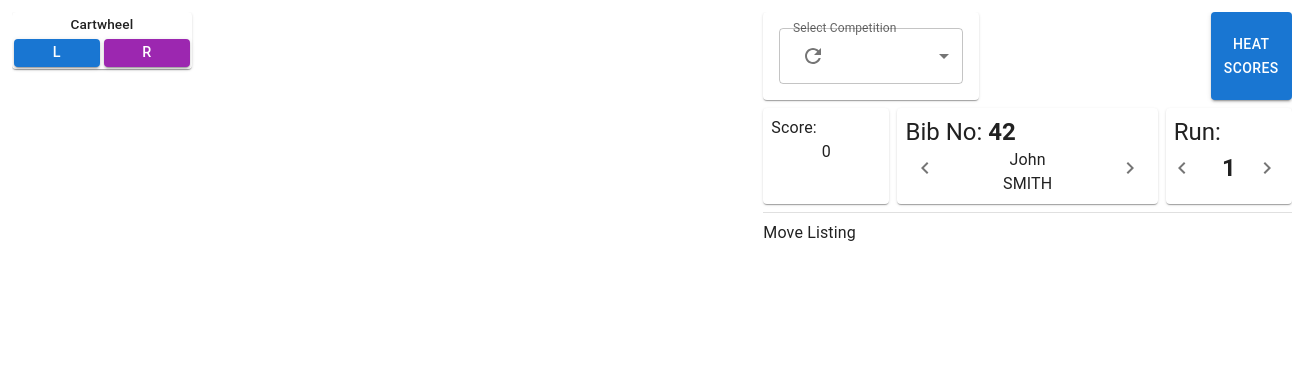
Test: Scribe › keeps showing local state and stays usable after a 409
The width and height of the screenshot is (1304, 382).
Click the button with test id "button-test-move-1-l" at [57, 53], box [14,39,100,67]
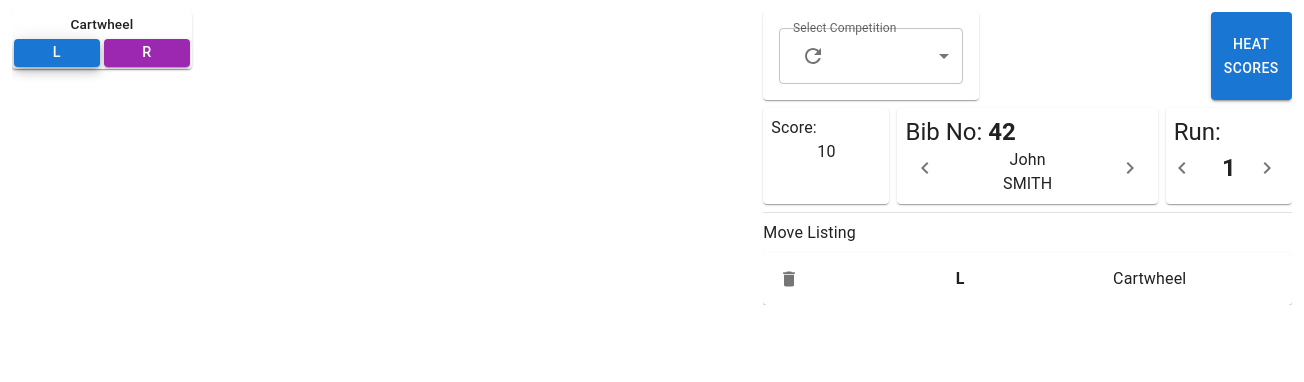
Now the text "Cartwheel" below "Move Listing" is shown, box [1113,269,1186,288]
Click the button with test id "button-test-move-1-r" at [147, 53], box [104,39,190,67]
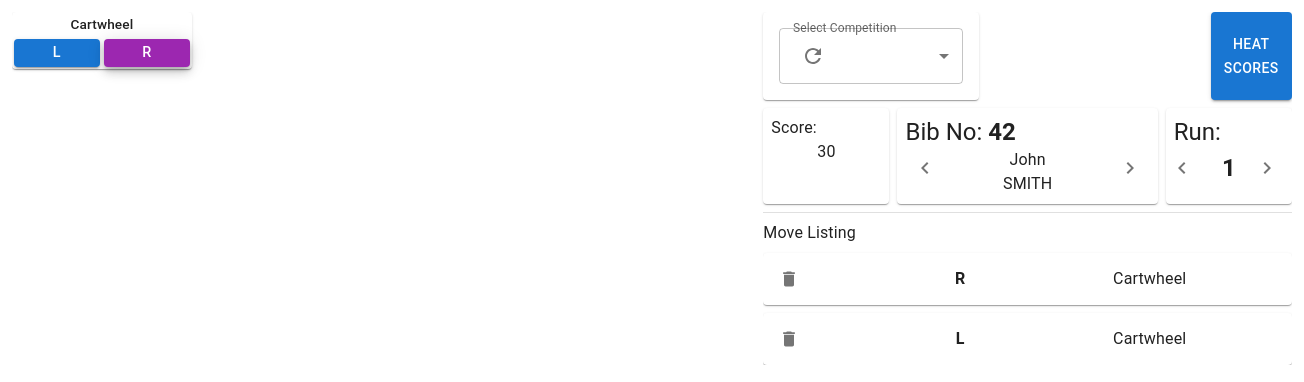
Now the text "Cartwheel" is shown 2 times, box [1113,269,1186,288]; [1113,329,1186,348]
